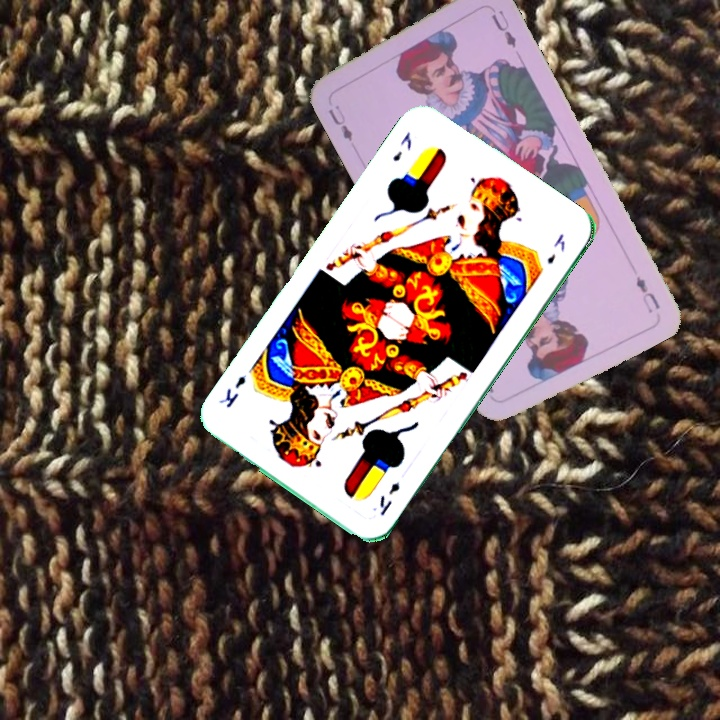EK: (375, 478, 403, 519), (388, 128, 415, 164)
EU: (631, 271, 663, 316), (323, 101, 355, 144)
